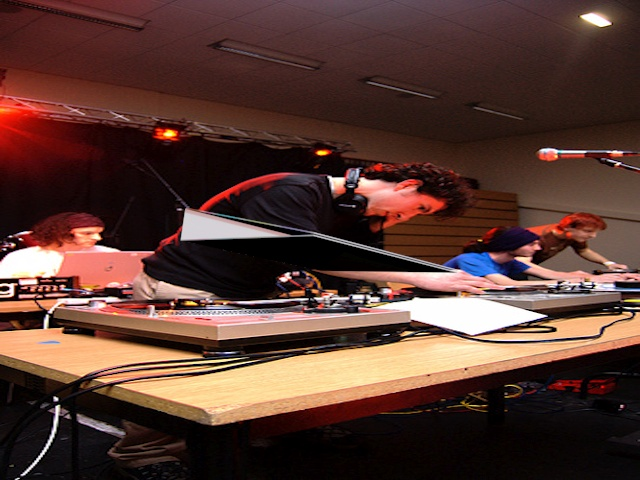ring_binder: (177, 201, 464, 280)
